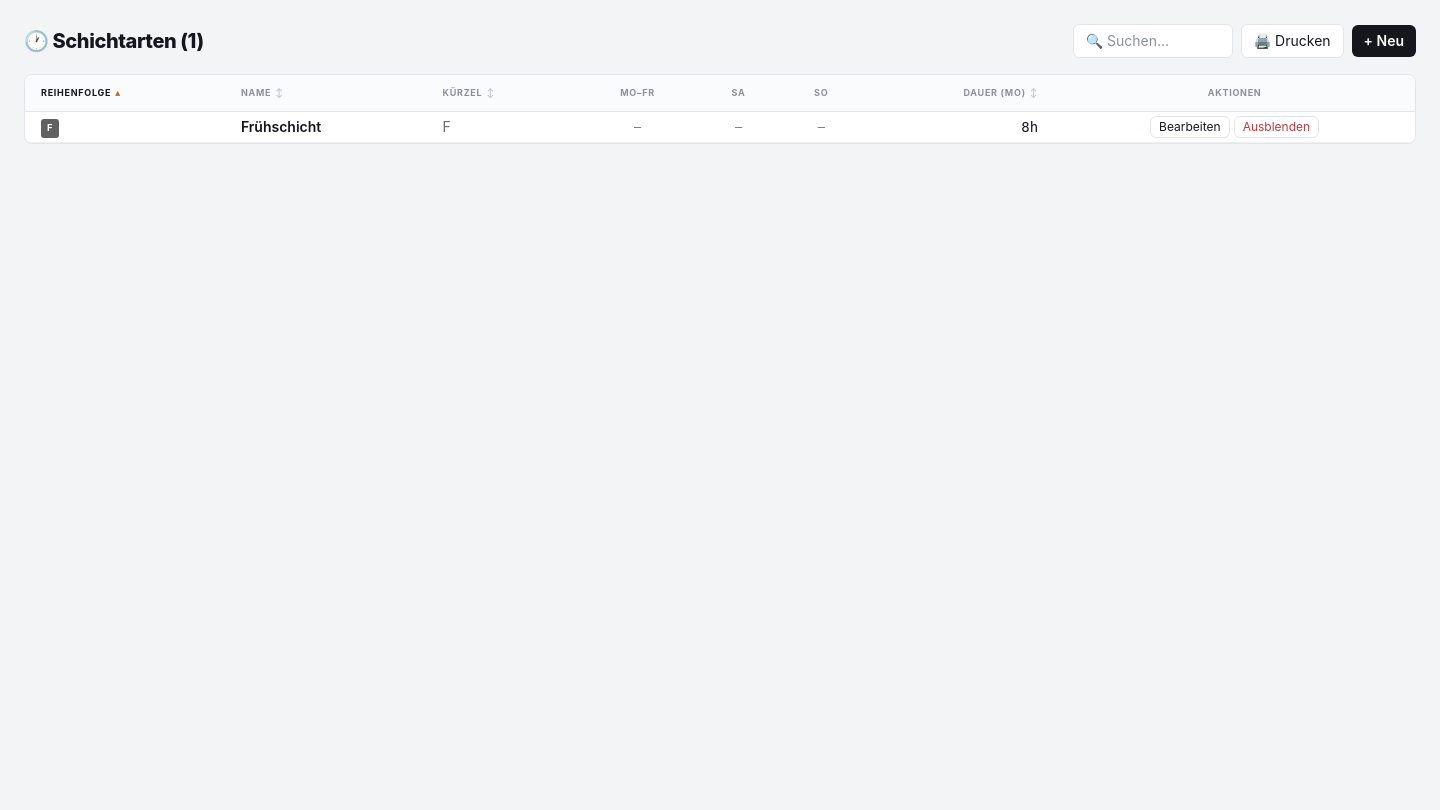
Test: Shifts Zeiten-Dialog (V-10) › lehnt mehr als drei Zeiträume je Tagestyp ab
Expected: the text "Frühschicht" is shown, left=225, top=112, right=426, bottom=142
Click the button "+ Neu" at (1384, 41), box left=1352, top=25, right=1416, bottom=57
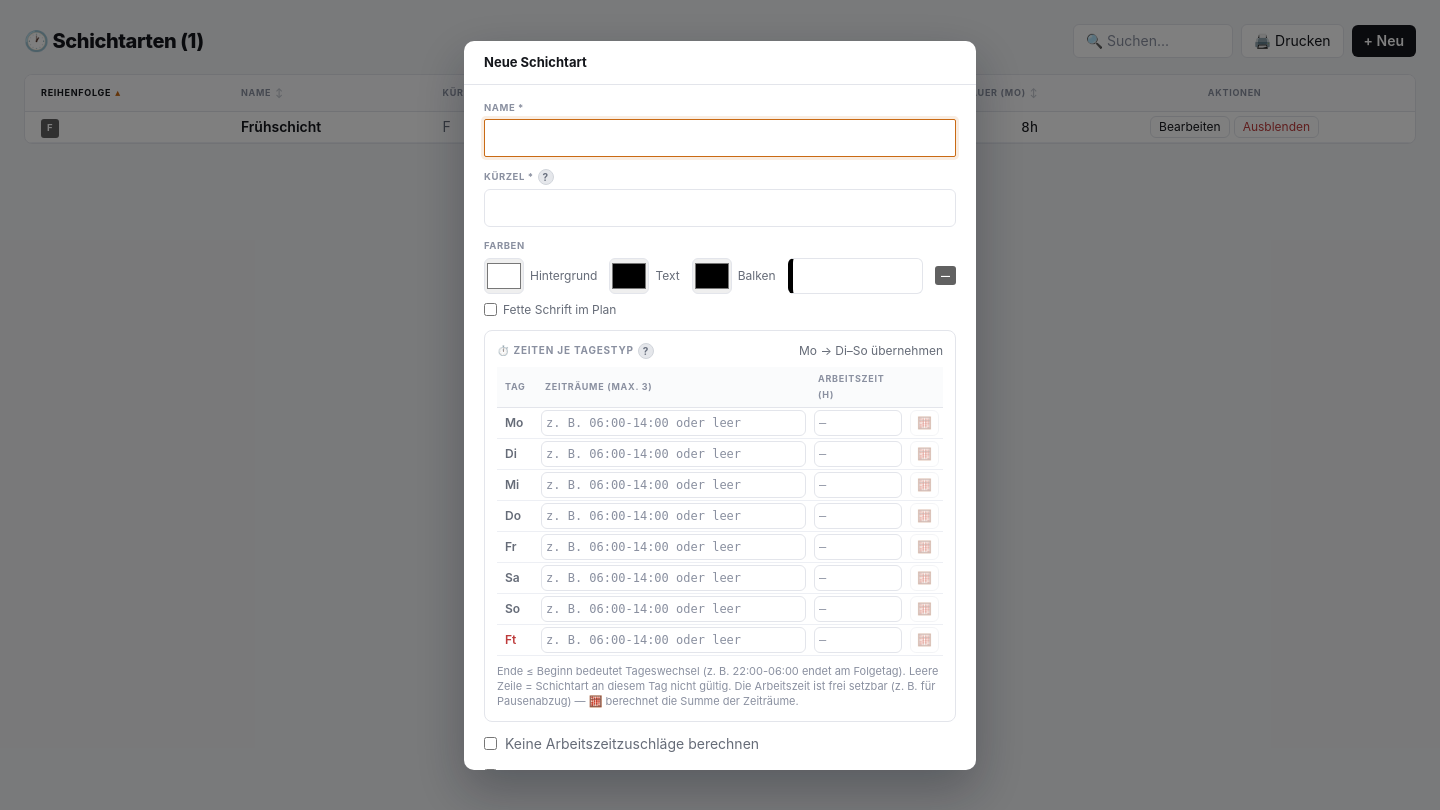
Expected: the heading "Neue Schichtart" is shown, left=464, top=40, right=976, bottom=85
Type "Test" into the field named "Name" at (720, 138), box left=484, top=119, right=956, bottom=157
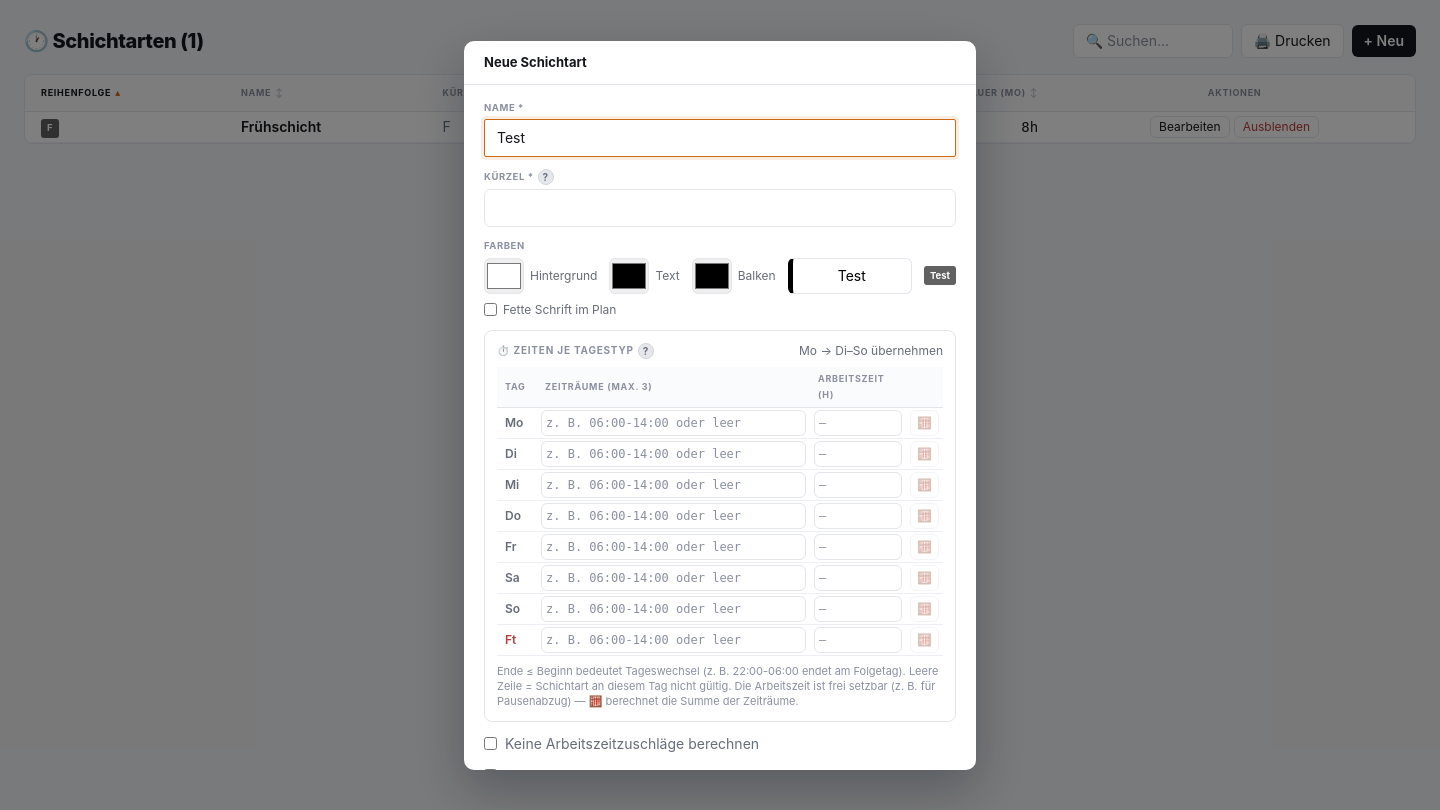
Type "T" into the field named "Kürzel" at (720, 208), box left=484, top=189, right=956, bottom=227
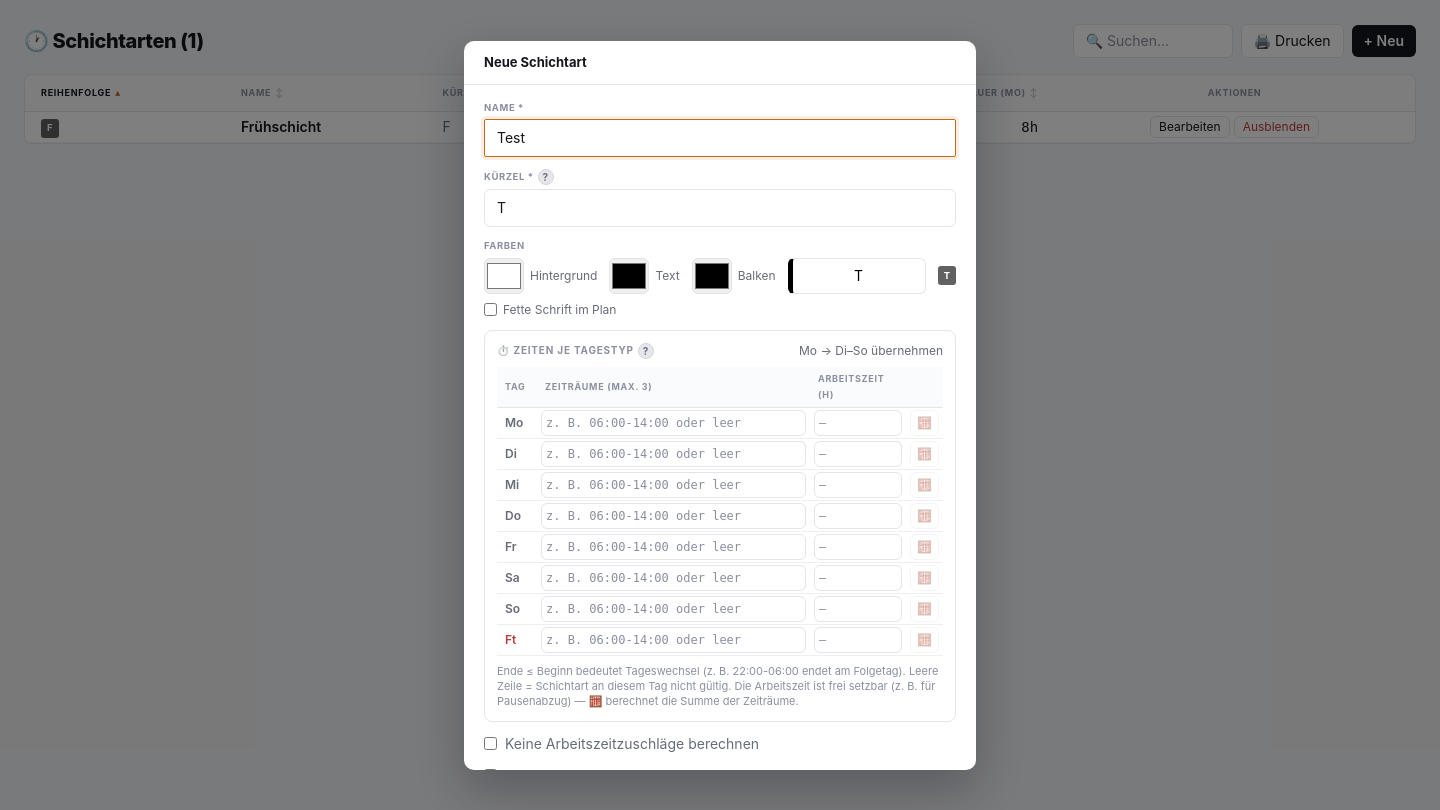
Type "06:00-08:00 09:00-10:00 11:00-12:00 13:00-14:00" into the field named "Zeiträume Mo" at (674, 422), box left=541, top=410, right=806, bottom=436
(page scrolled)
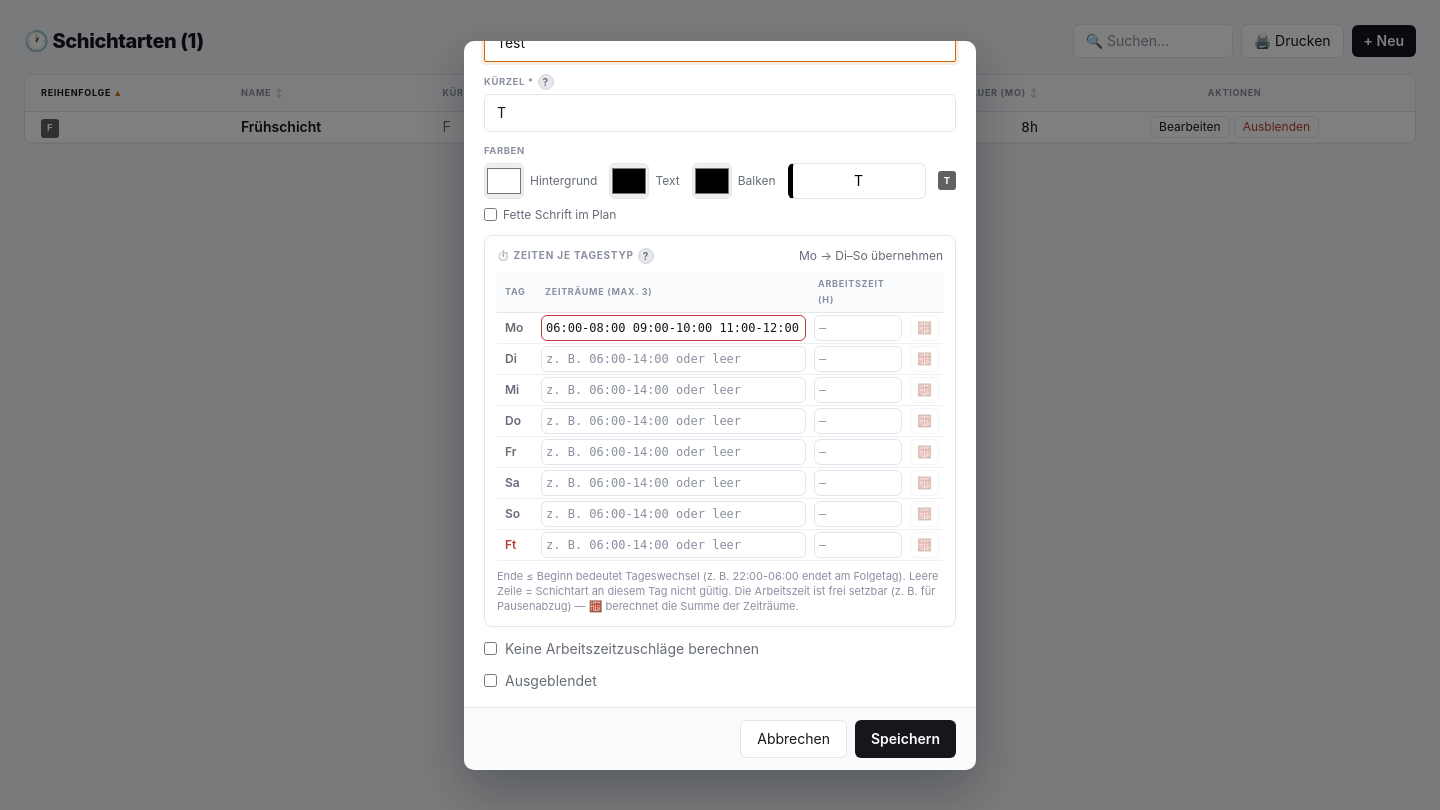
Click the button "Speichern" at (905, 739), box left=855, top=720, right=956, bottom=758
(page scrolled)
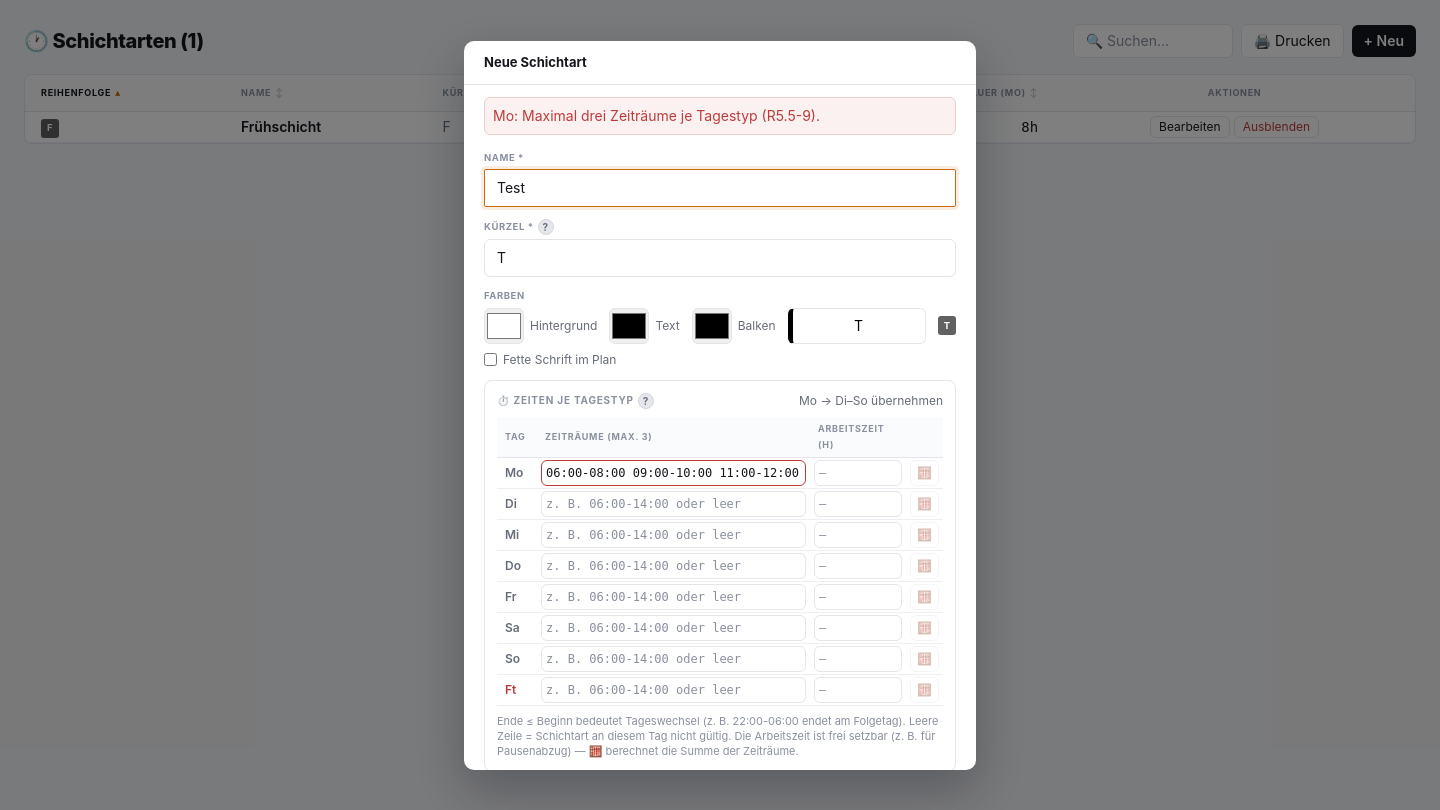
Expected: the text "Mo: Maximal drei Zeiträume je Tagestyp (R5.5-9)." is shown, left=484, top=97, right=956, bottom=135
